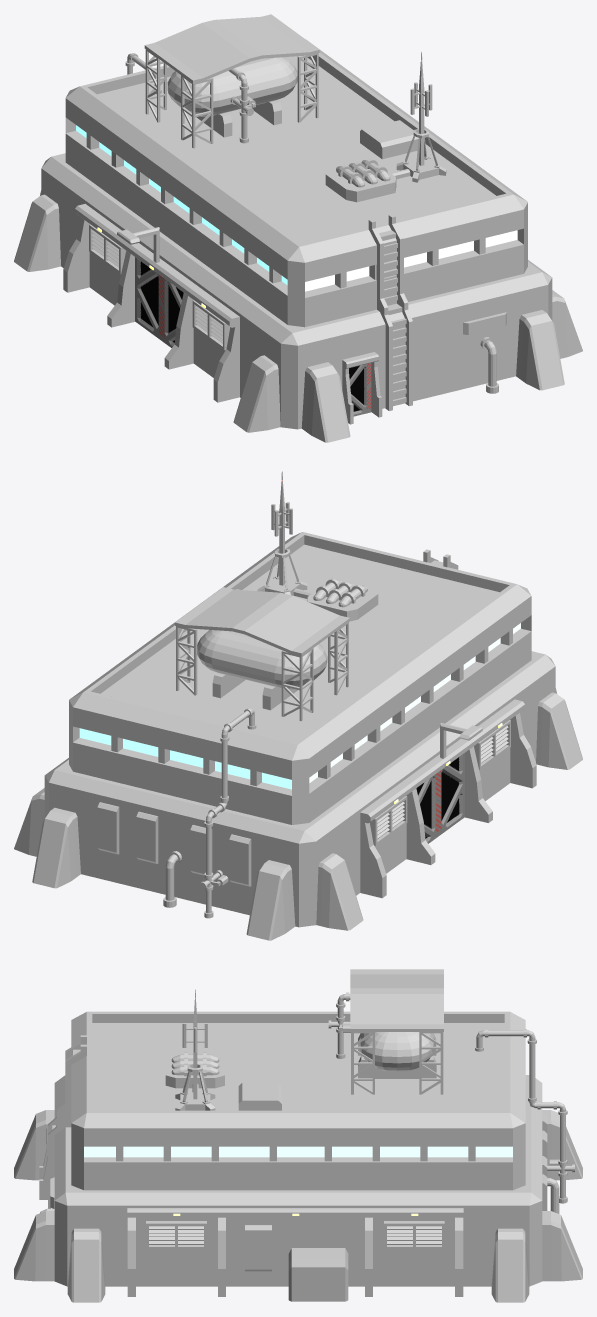
Rendered from prod_building_.glb.
3 views of the same model, one above another, from view 1: azimuth 30°, elevation 25°; view 2: azimuth 150°, elevation 25°; view 3: azimuth 270°, elevation 25° (orthographic). The views are drawn at different scales.
Visible parts, largest first — view 1: service_building_1_, Door.001, Door, Door.002; view 2: service_building_1_, Door, Door.001; view 3: service_building_1_.
Part boxes in pixels (x1,y1,x2,y2): service_building_1_: [14, 14, 582, 442]; Door.001: [135, 257, 164, 342]; Door: [158, 274, 183, 347]; Door.002: [349, 363, 371, 416]; service_building_1_: [14, 471, 582, 940]; Door: [435, 753, 464, 833]; Door.001: [416, 774, 441, 843]; service_building_1_: [14, 969, 582, 1302].
Bounding box in the file's own units: 4.52 × 3.5 × 6.7.
Materials: 4 (2 with a texture image).
